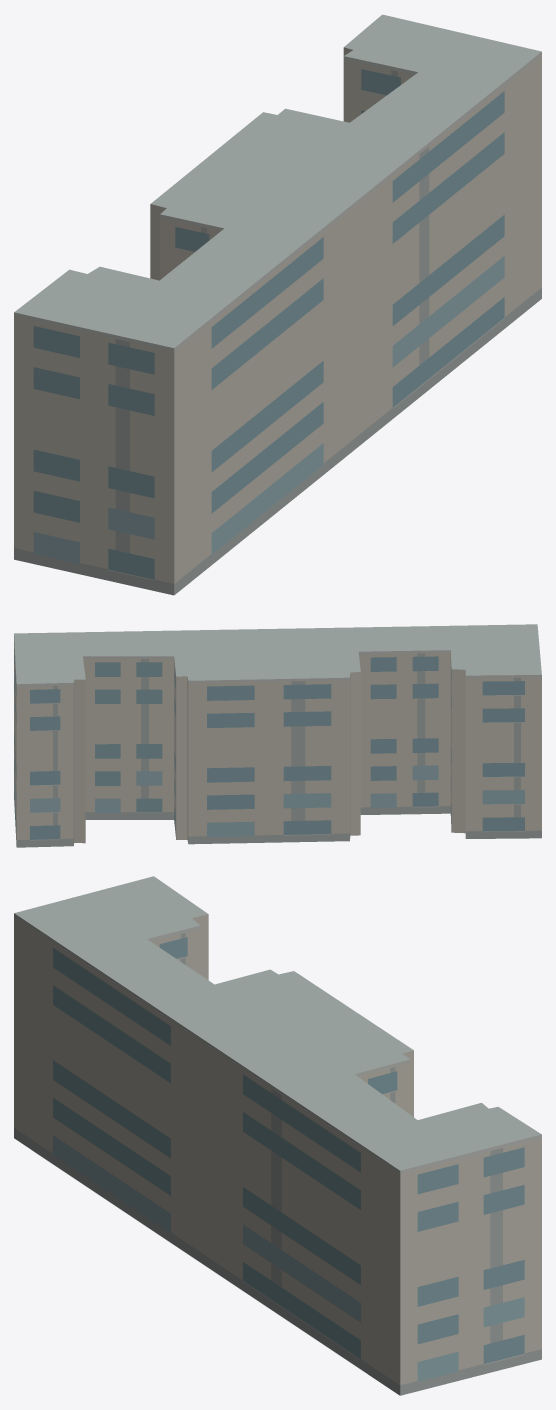
Rendered from survey-upis-32767735.glb.
3 views of the same model, one above another, from view 1: azimuth 30°, elevation 25°; view 2: azimuth 150°, elevation 25°; view 3: azimuth 270°, elevation 25° (orthographic). The views are drawn at different scales.
Visible parts, largest first — view 1: survey-upis-32767735.tmp; view 2: survey-upis-32767735.tmp; view 3: survey-upis-32767735.tmp.
Part boxes in pixels (x1,y1,x2,y2): survey-upis-32767735.tmp: (14,14,541,595); survey-upis-32767735.tmp: (14,624,541,847); survey-upis-32767735.tmp: (14,876,541,1395).
Bounding box in the file's own units: 43.8 × 15.6 × 33.17.
